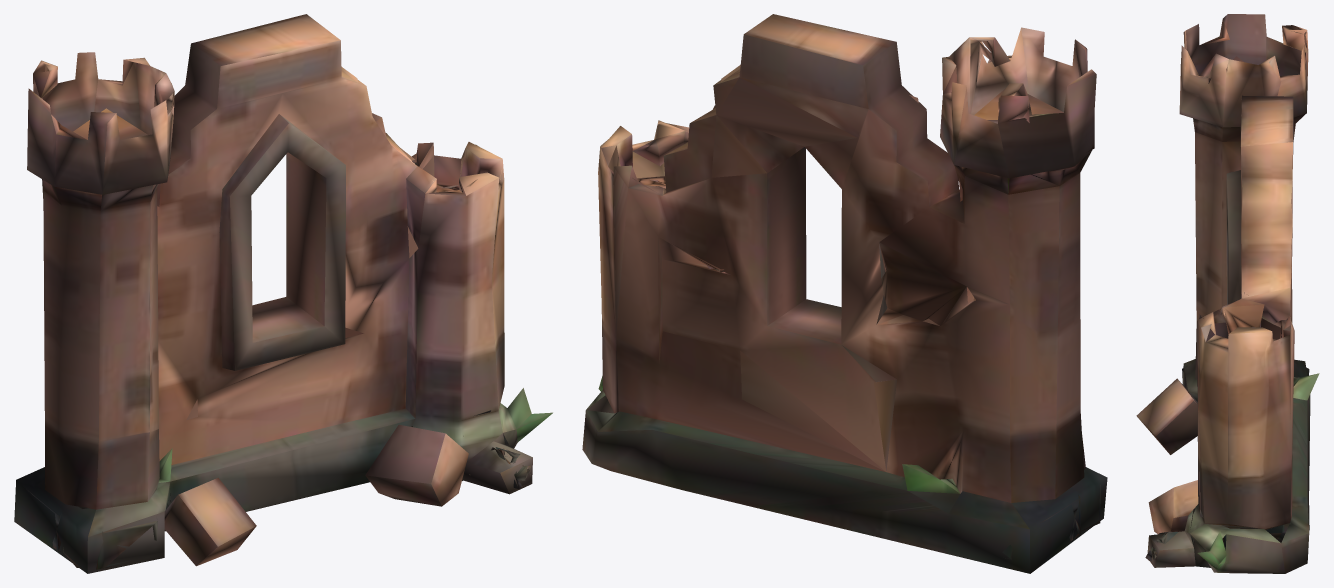
File: lg-ruined-hall-wall.glb
3 renders of one model, left to right at view 1: azimuth 30°, elevation 25°; view 2: azimuth 150°, elevation 25°; view 3: azimuth 270°, elevation 25°, orthographic. The views are drawn at different scales.
Visible parts, largest first — view 1: geometry_0; view 2: geometry_0; view 3: geometry_0.
Part boxes in pixels (x1,y1,x2,y2): geometry_0: [14, 14, 552, 573]; geometry_0: [582, 14, 1107, 573]; geometry_0: [1136, 14, 1319, 573].
Bounding box in the file's own units: 1 × 0.8992 × 0.3914.
1 material, 1 textured.
